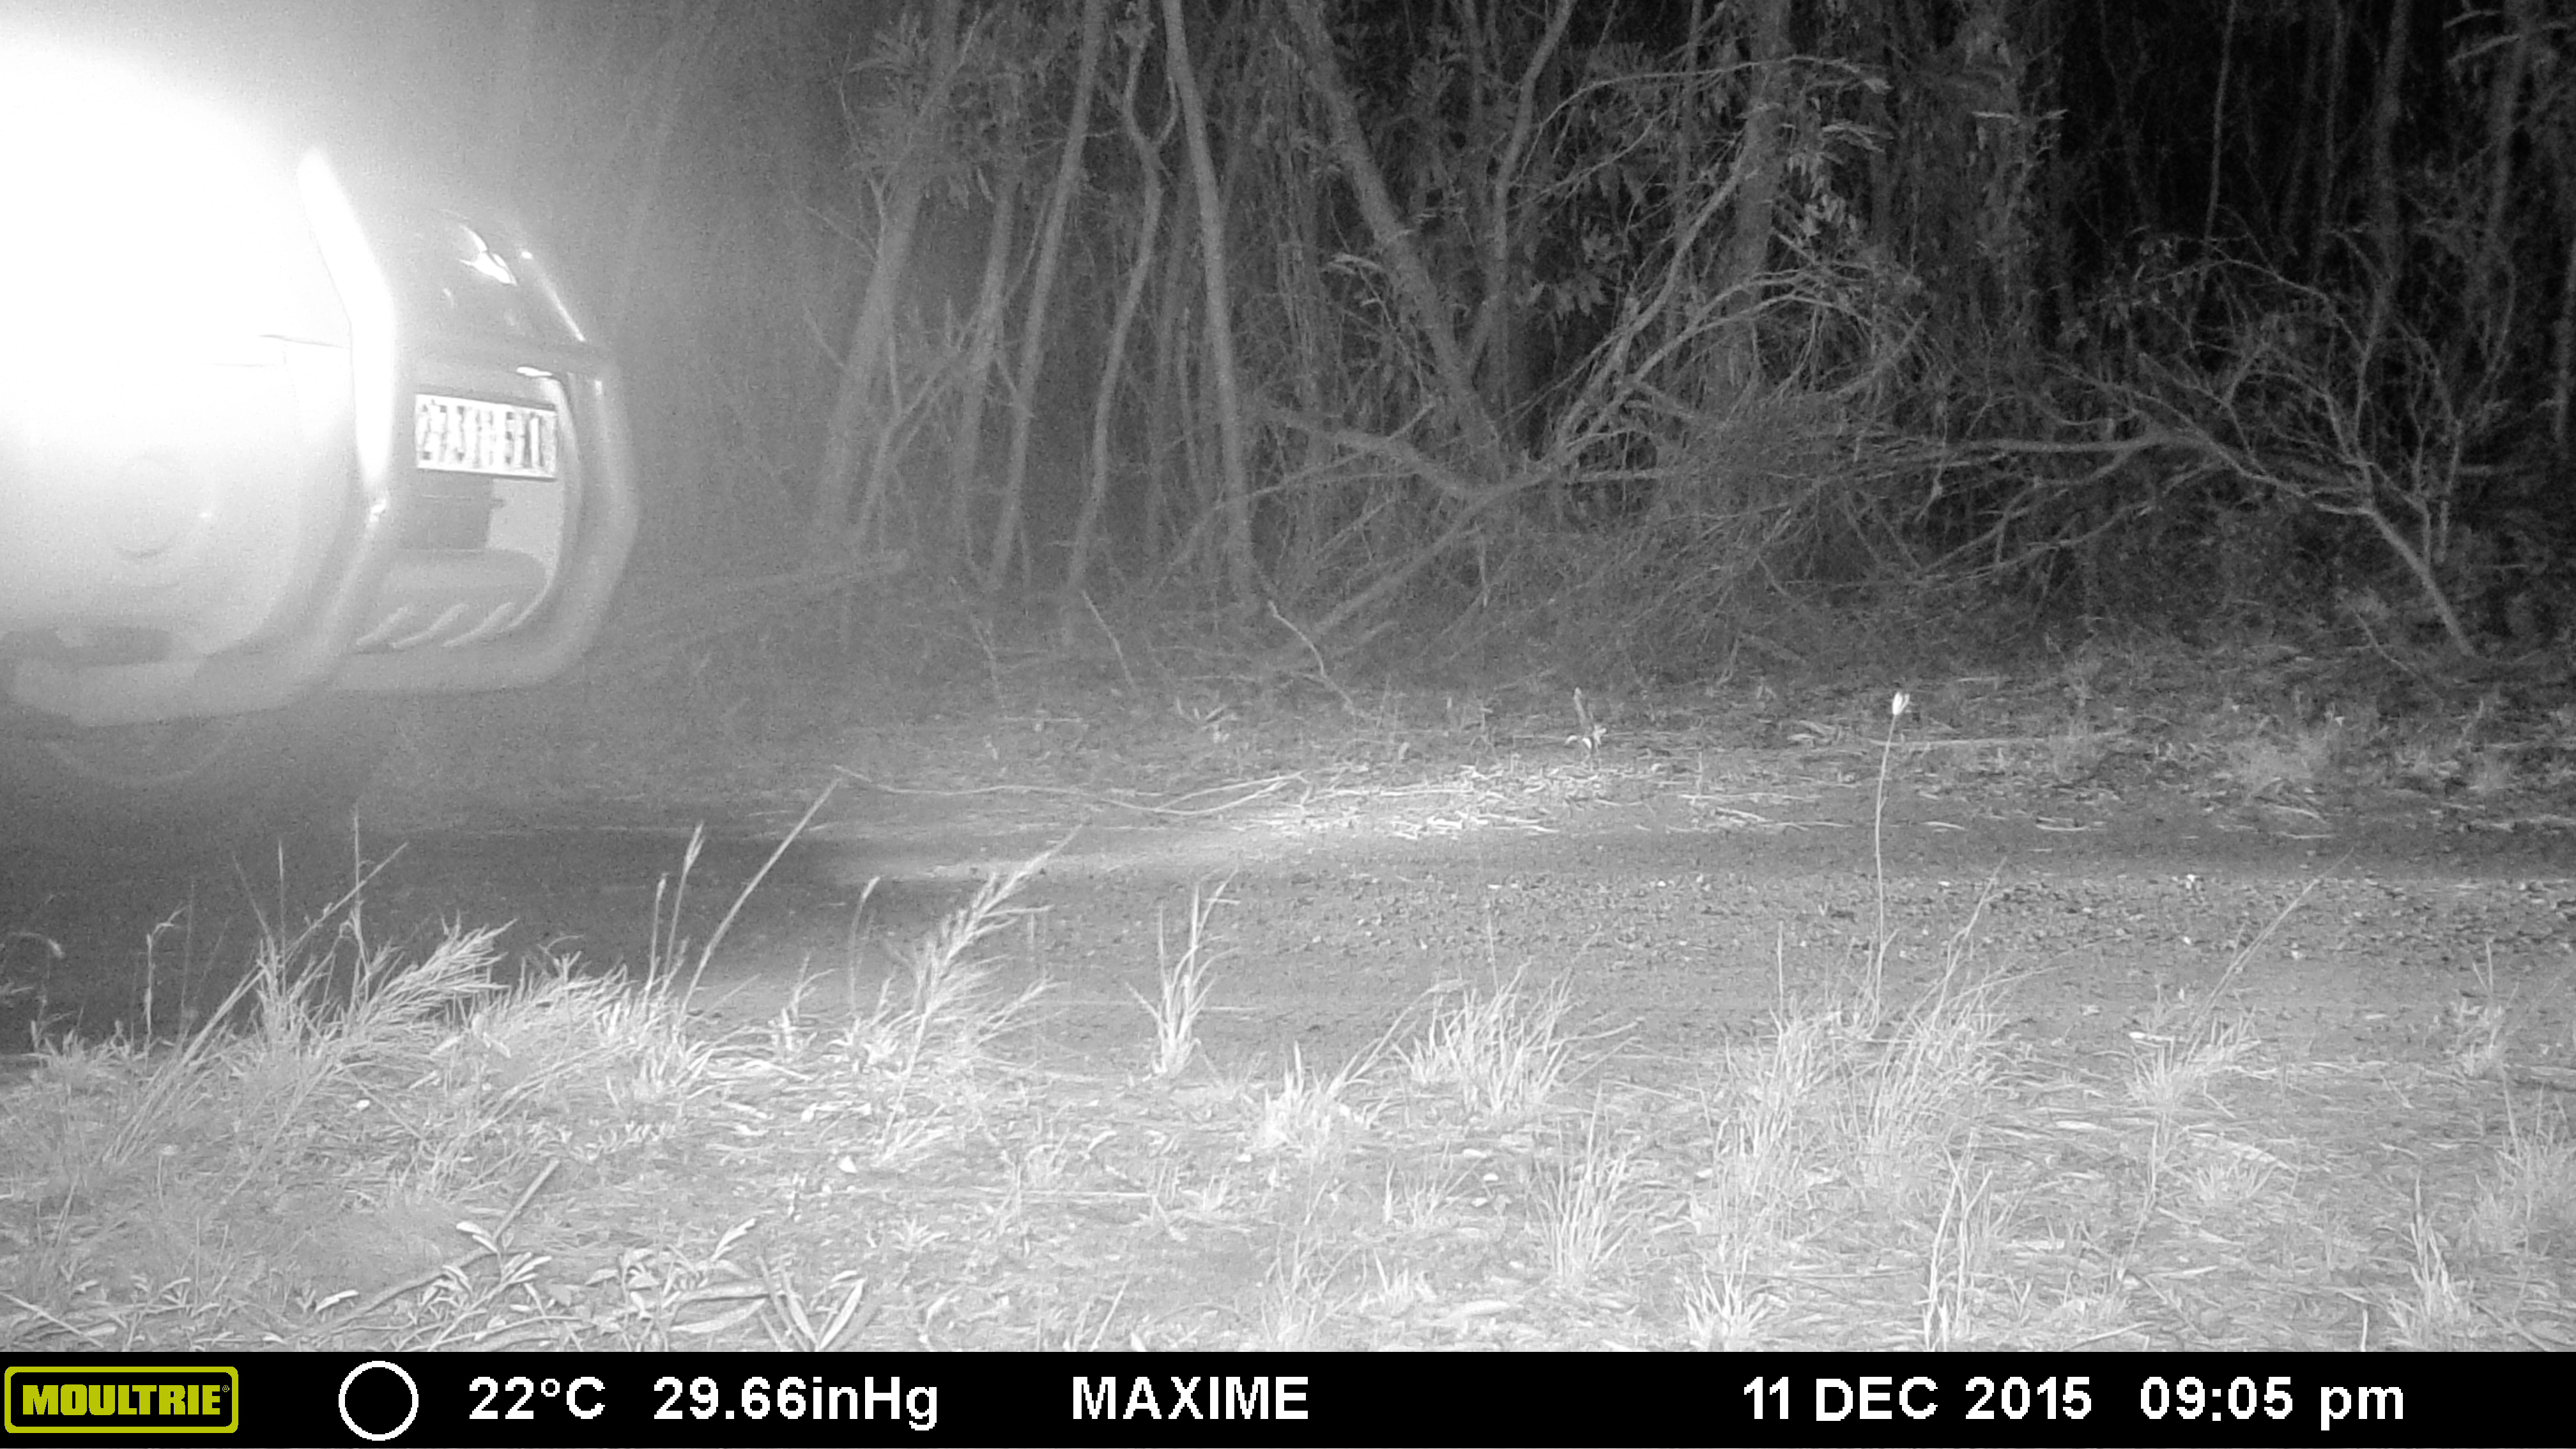Car: (2, 2, 651, 936)
